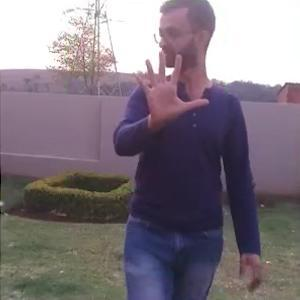follow_hand: (133, 48, 211, 124)
